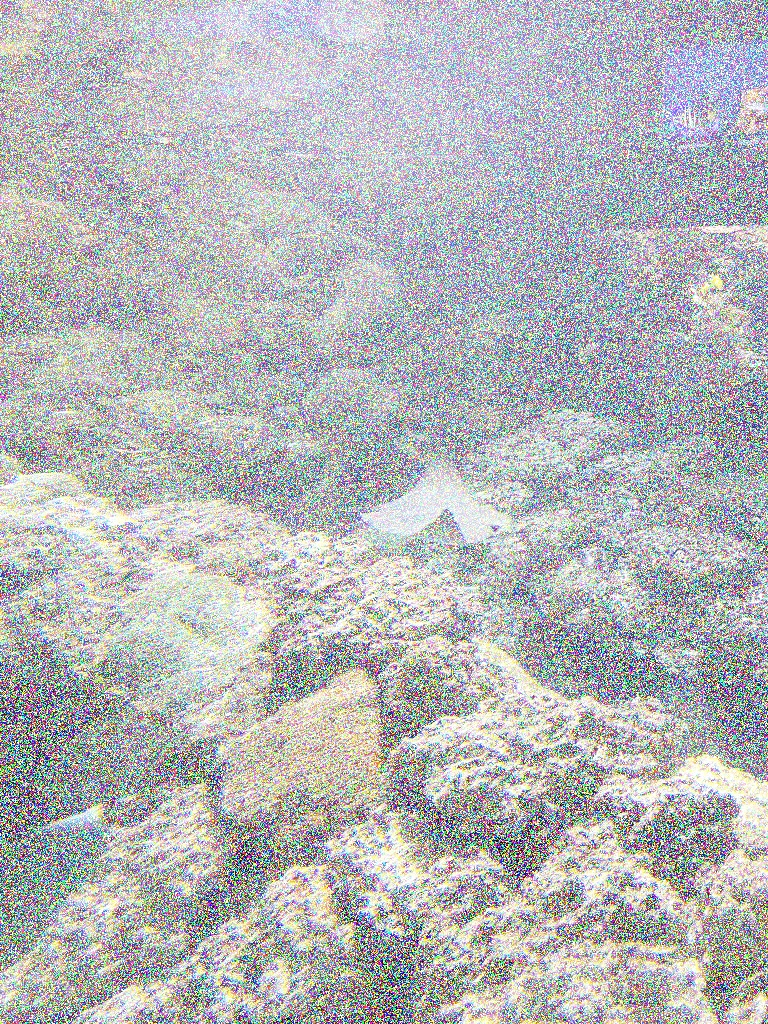stingray: (357, 443, 515, 543)
